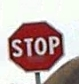stop: (8, 20, 64, 72)
